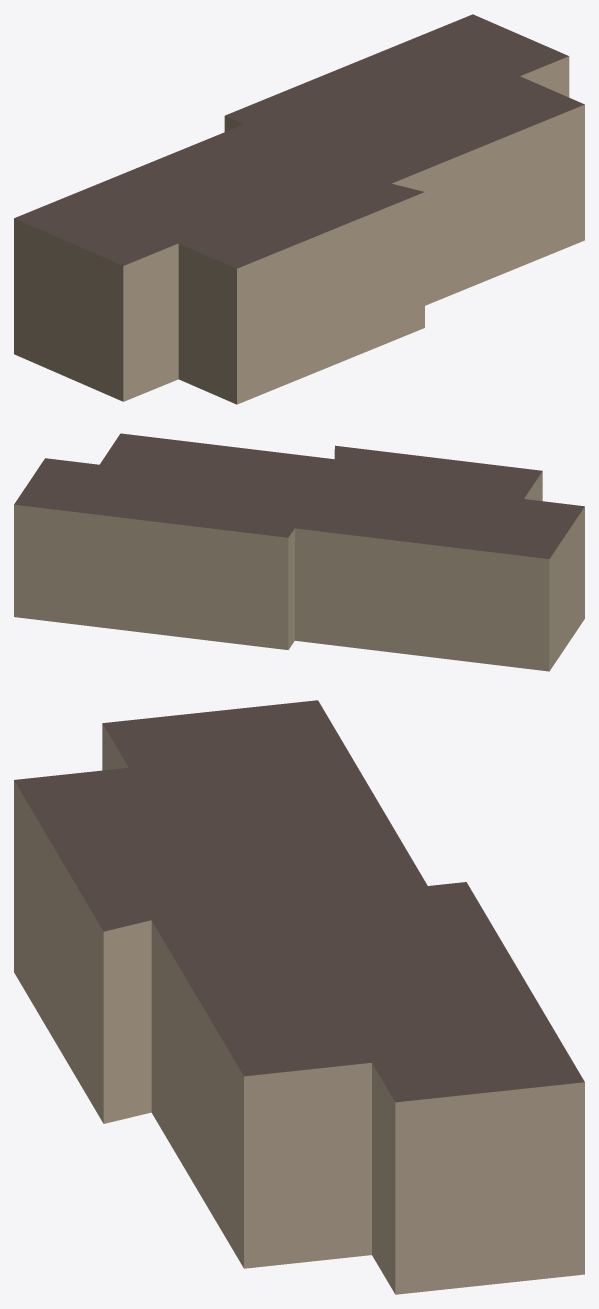
3 views of the same model, one above another, from view 1: azimuth 30°, elevation 25°; view 2: azimuth 150°, elevation 25°; view 3: azimuth 270°, elevation 25° (orthographic). The views are drawn at different scales.
Parts seen in each view (by area): view 1: HP-w1211773147; view 2: HP-w1211773147; view 3: HP-w1211773147.
Boxes of the visible parts, x1=… form: HP-w1211773147: x1=14, y1=14, x2=584, y2=404; HP-w1211773147: x1=14, y1=433, x2=584, y2=671; HP-w1211773147: x1=14, y1=700, x2=584, y2=1294.
Bounding box in the file's own units: 40.36 × 9 × 24.21.
